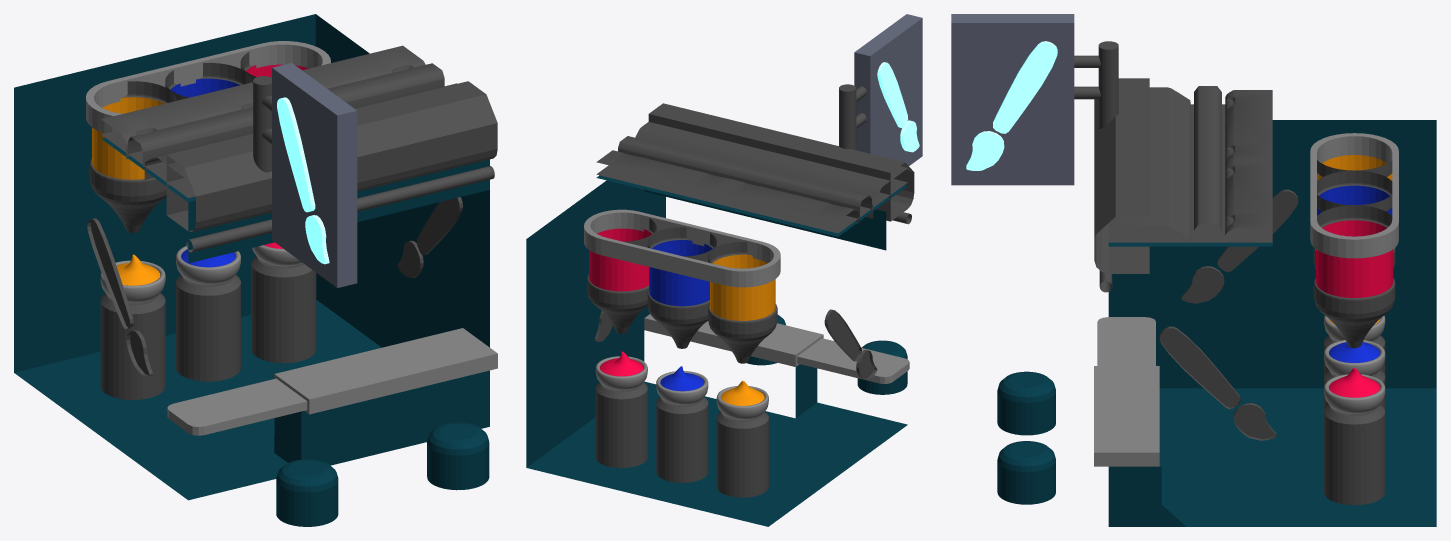
Rendered from MB_Shop_Dye_Vendor.fbx.
The picture shows the model from 3 angles, left to right: view 1: azimuth 30°, elevation 25°; view 2: azimuth 150°, elevation 25°; view 3: azimuth 270°, elevation 25°; orthographic projection. The views are drawn at different scales.
Visible parts, largest first — view 1: Cube.6560, Cube.6198; view 2: Cube.6560, Cube.6198; view 3: Cube.6560, Cube.6198.
Part boxes in pixels (x1,y1,x2,y2): Cube.6560: (14, 14, 497, 526); Cube.6198: (253, 63, 357, 287); Cube.6560: (526, 103, 914, 526); Cube.6198: (839, 14, 922, 165); Cube.6560: (997, 78, 1436, 526); Cube.6198: (951, 14, 1118, 185).
Size of the model in its own units: 4.01 by 5.45 by 5.92.
